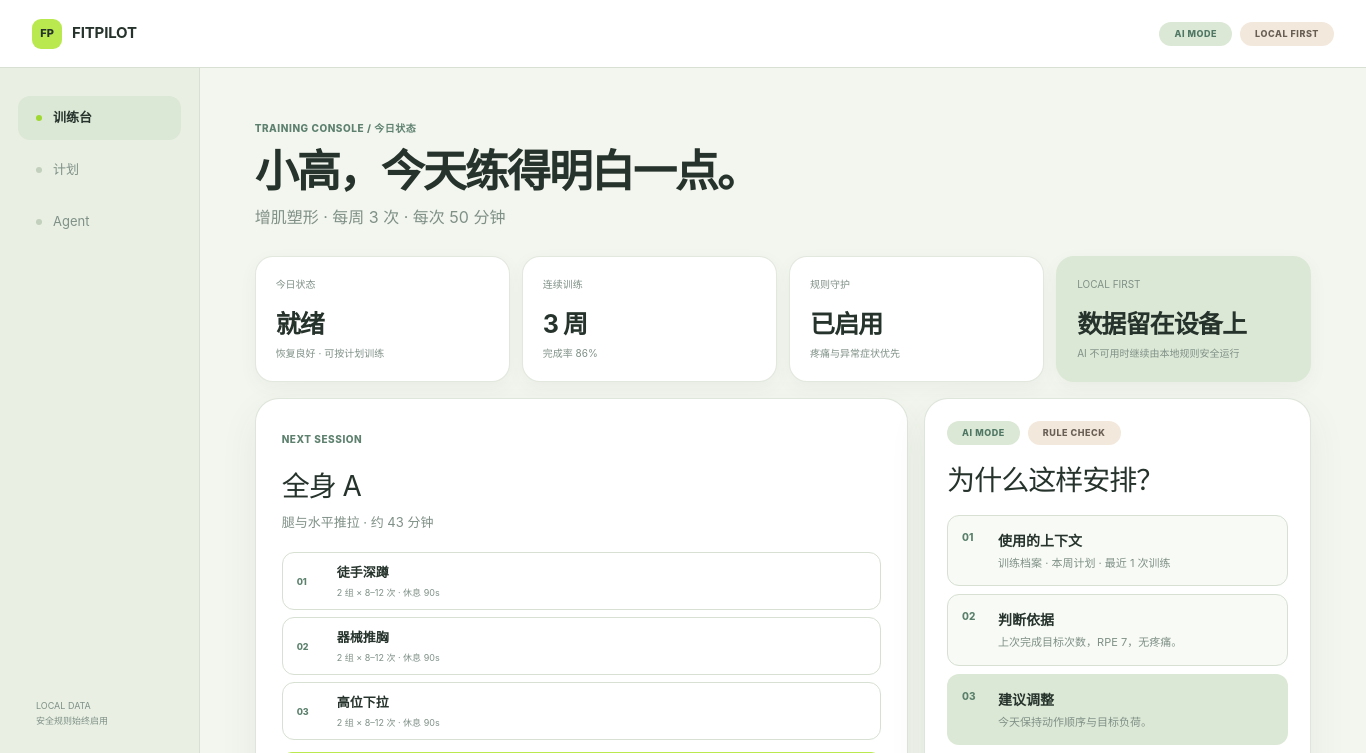
it: AppShell › keeps the applied agent recommendation as a stable decision snapshot
What coordinates should you click on to do the following:
click the button "Agent"
I would click on:
 (100, 222)
Its box is [18,200,181,244].
(page scrolled)
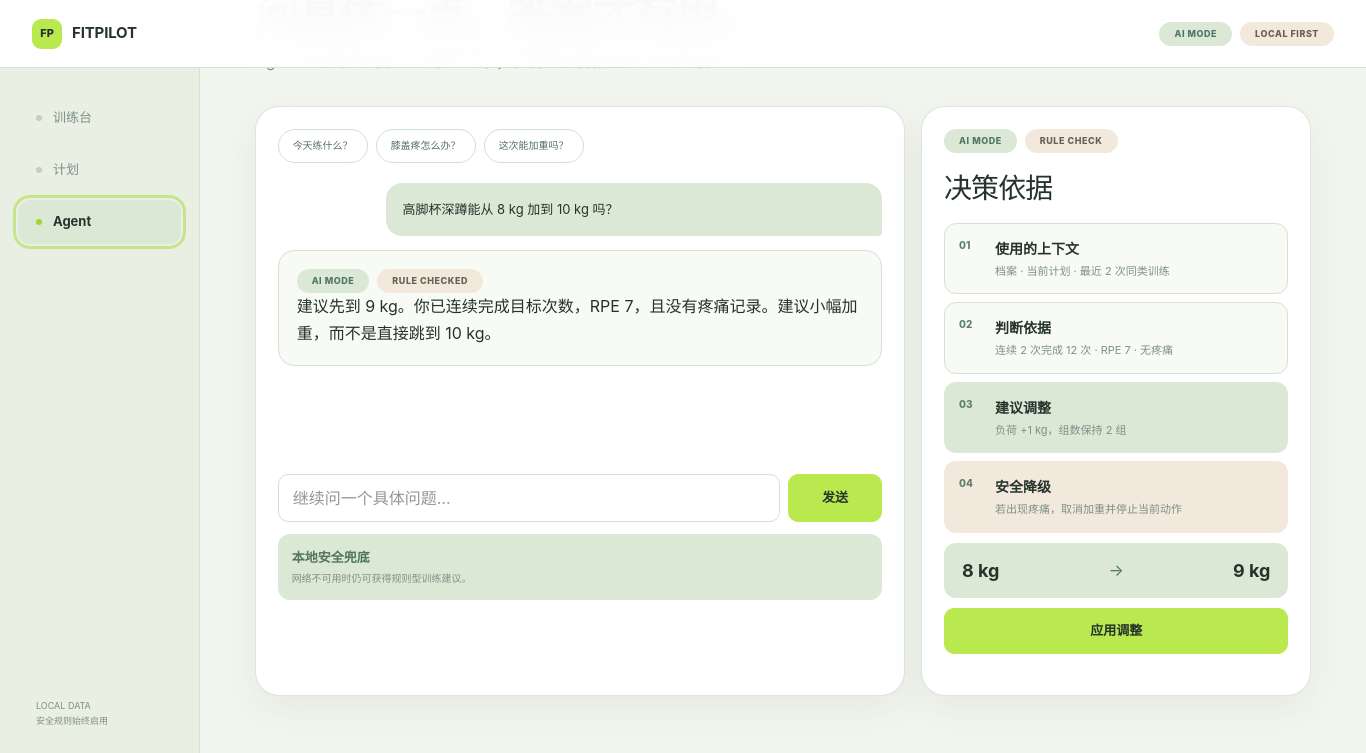
Now the text "8 kg" is shown, box [962,557,1000,584]
Now the text "9 kg" is shown, box [1233,557,1270,584]
What coordinates should you click on to do the following:
click the button "应用调整"
I would click on:
 (1116, 631)
Its box is [944,608,1288,654].
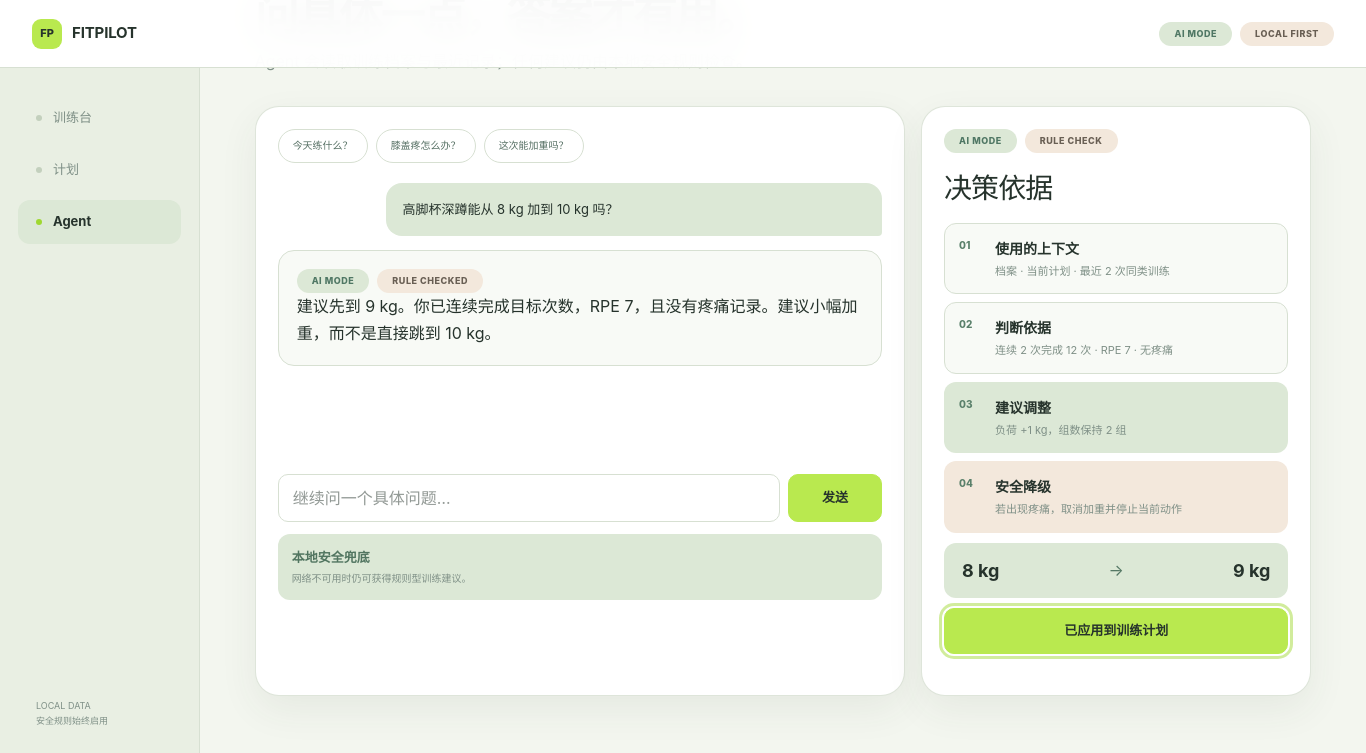
Now the text "8 kg" is shown, box [962,557,1000,584]
Now the text "9 kg" is shown, box [1233,557,1270,584]
Now the button "已应用到训练计划" is shown, box [944,608,1288,654]
